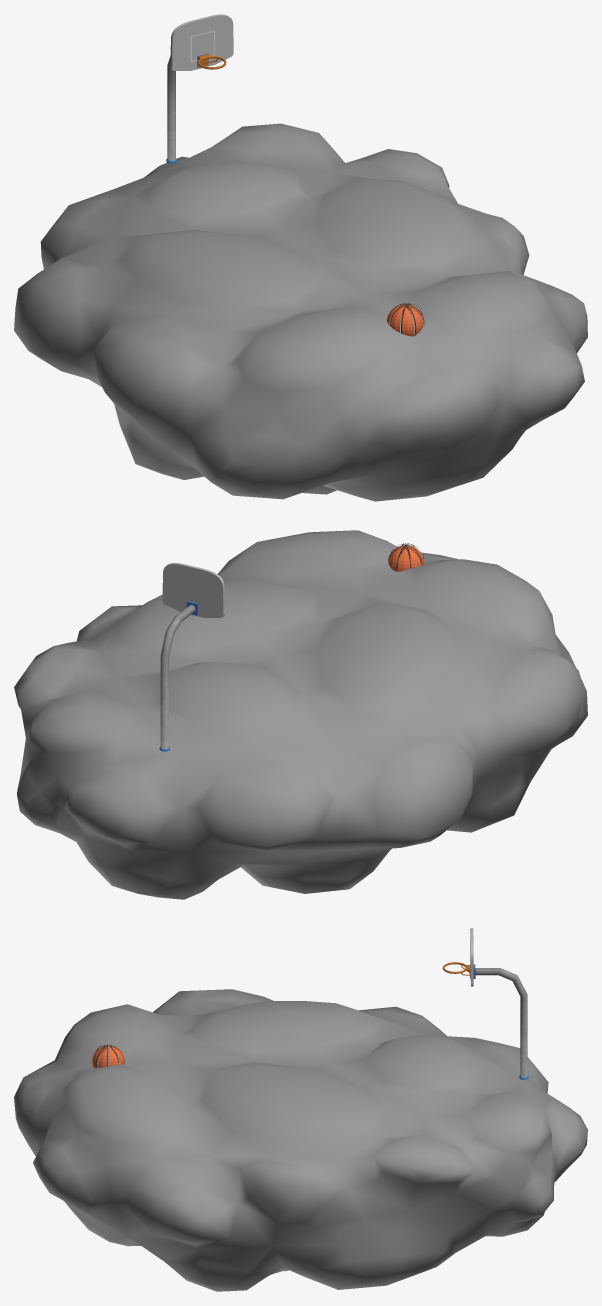
File: basketball_on_cloud3.glb
3 views of the same model, one above another, from view 1: azimuth 30°, elevation 25°; view 2: azimuth 150°, elevation 25°; view 3: azimuth 270°, elevation 25° (orthographic). The views are drawn at different scales.
Visible parts, largest first — view 1: Object_3, Box002__0, Line001__0, BasketballBall; view 2: Object_3, Box002__0, Line001__0, BasketballBall; view 3: Object_3, Line001__0, BasketballBall.
Part boxes in pixels (x1,y1,x2,y2): Object_3: [14, 123, 587, 501]; Box002__0: [170, 14, 233, 70]; Line001__0: [166, 53, 208, 163]; BasketballBall: [387, 303, 424, 336]; Object_3: [14, 530, 587, 899]; Box002__0: [162, 563, 224, 617]; Line001__0: [159, 601, 198, 751]; BasketballBall: [388, 543, 424, 571]; Object_3: [14, 989, 587, 1291]; Line001__0: [470, 964, 528, 1079]; BasketballBall: [91, 1044, 124, 1067].
Bounding box in the file's own units: 11.53 × 9.02 × 14.53.
4 materials, 1 textured.
